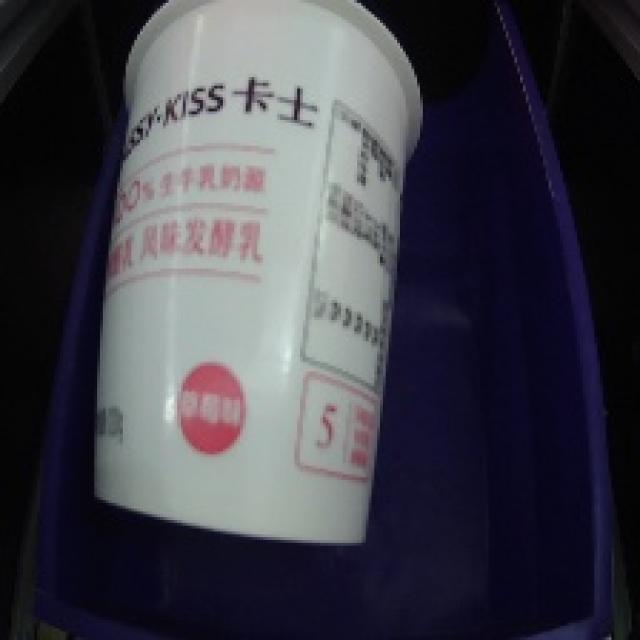cups: (64, 0, 433, 563)
